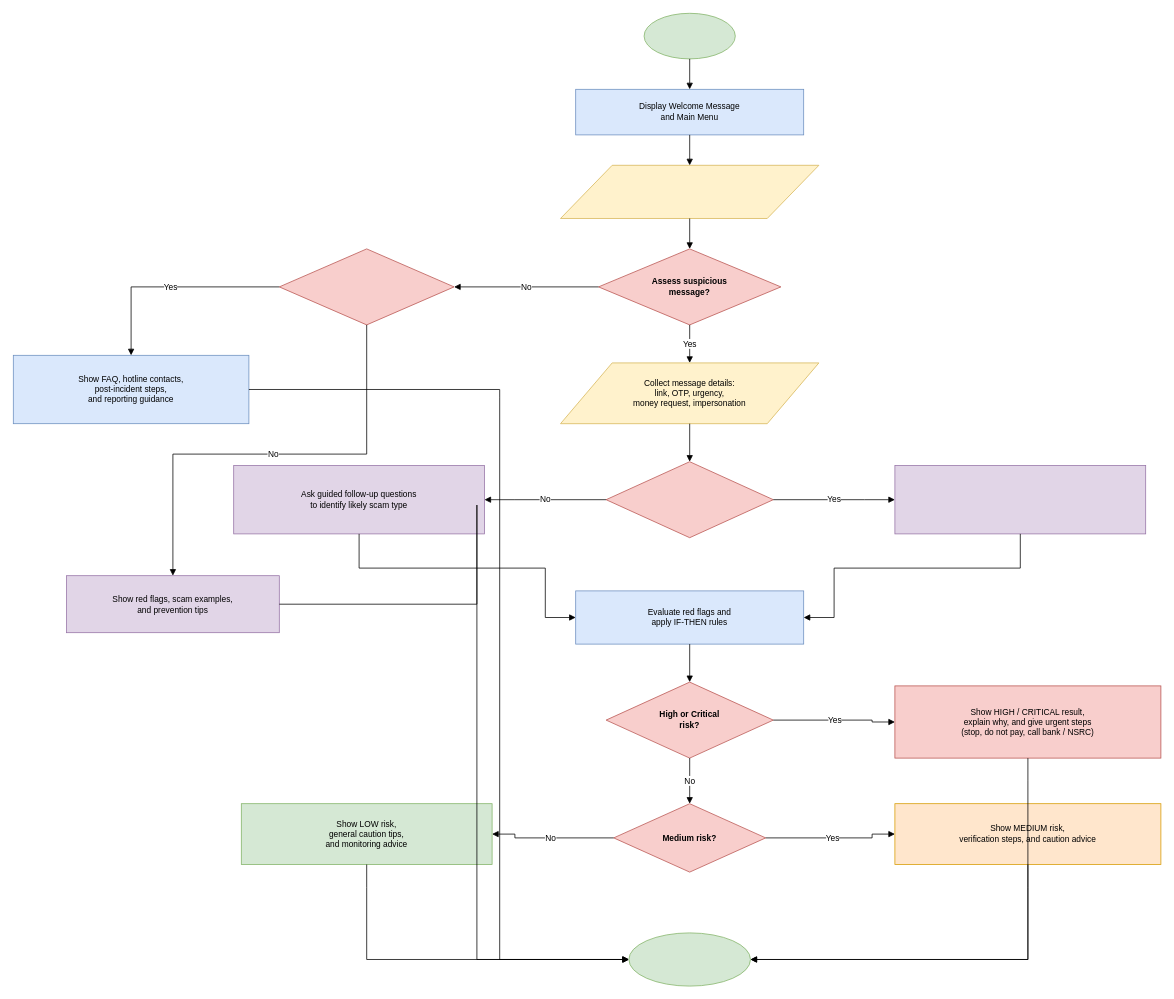
Image size: 1174x999. Some labels were removed from this diagram. The shapes that lost their labels are listed below. From the top down, each one's centre as x and y in pixels, then its label:
point (689, 36): START
point (689, 191): User chooses an option or pastes a suspicious message
point (366, 286): FAQ / Reporting / Safety Guide?
point (689, 499): Scam type known?
point (1020, 499): Show scam type options: Phishing, Parcel, Bank Alert, Job, Investment, Romance
point (689, 959): END / RETURN TO MENU
